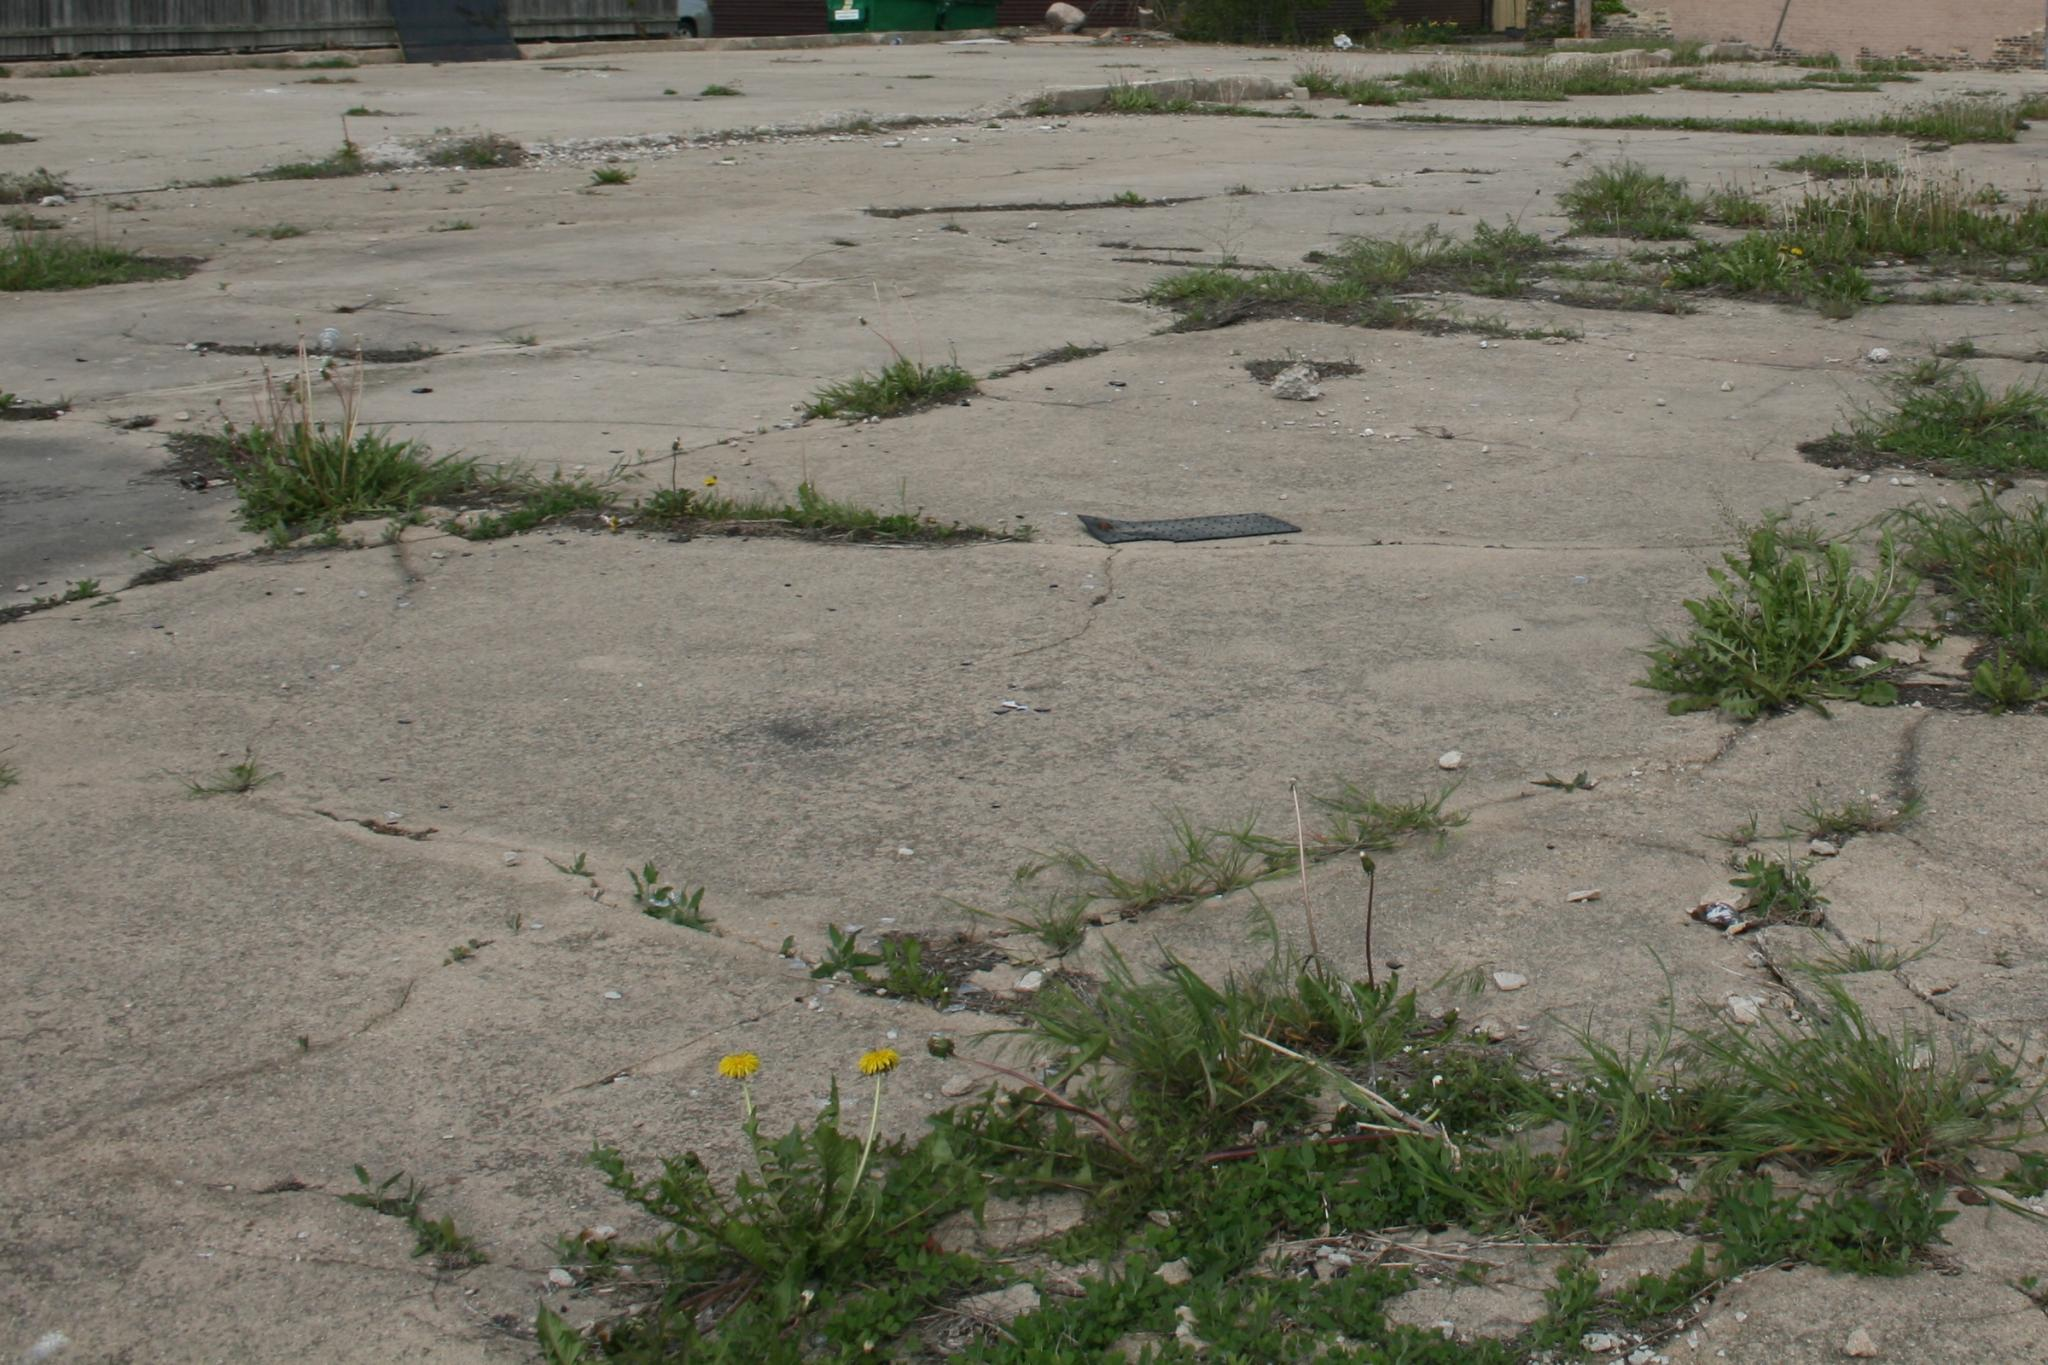overgrown grass: (513, 946, 2046, 1365), (166, 358, 1032, 550), (1142, 221, 2022, 332), (1643, 501, 2046, 718), (1558, 154, 2046, 279), (1016, 785, 1468, 911), (1105, 55, 1876, 111), (1479, 90, 2046, 145), (1800, 373, 2046, 477), (341, 1165, 487, 1283), (790, 343, 978, 427), (809, 925, 964, 1010), (171, 142, 397, 189), (0, 244, 209, 288), (1719, 846, 1830, 920), (626, 861, 716, 932), (1803, 795, 1922, 846), (203, 757, 295, 814), (416, 129, 527, 168), (688, 75, 751, 114), (600, 155, 649, 190), (323, 94, 381, 119), (650, 78, 681, 102), (556, 856, 591, 876)
trash: (1078, 513, 1300, 545), (306, 328, 344, 353), (33, 192, 65, 203)
